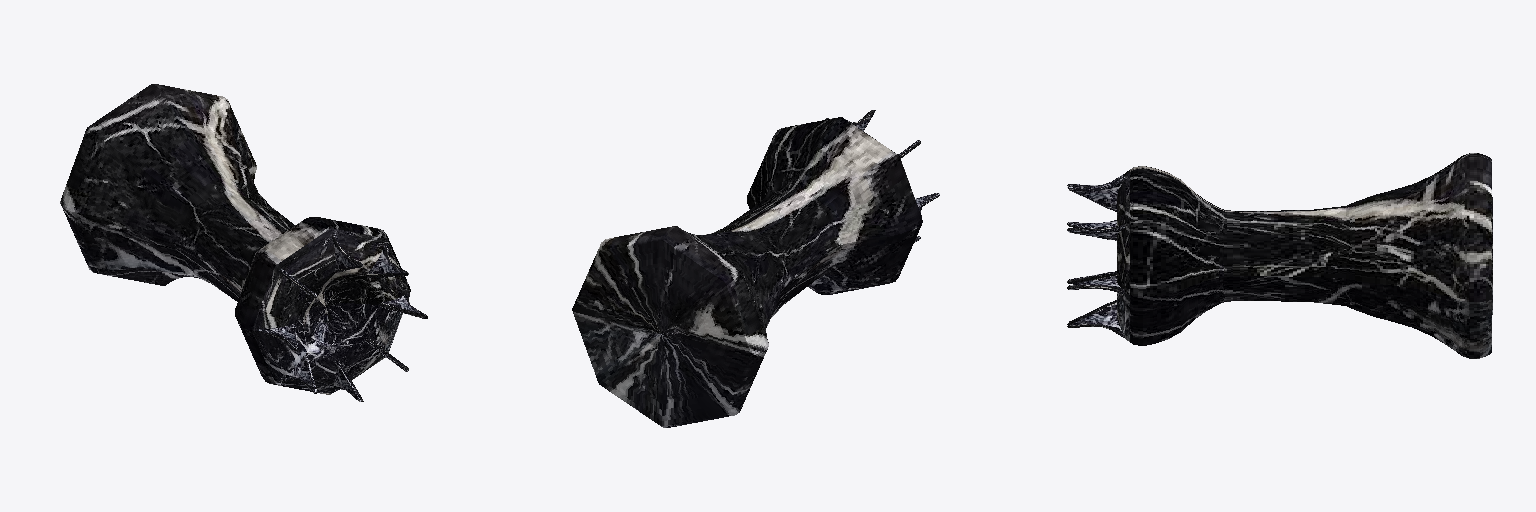
3 views of the same model, side by side, from view 1: azimuth 30°, elevation 25°; view 2: azimuth 150°, elevation 25°; view 3: azimuth 270°, elevation 25° (orthographic).
Parts seen in each view (by area): view 1: r.0036, r.0040, p.0043; view 2: r.0036, p.0043; view 3: r.0036, p.0043, r.0040.
Part boxes in pixels (x1,y1,x2,y2): r.0036: (60, 84, 410, 394); r.0040: (252, 228, 409, 393); p.0043: (257, 233, 427, 401); r.0036: (572, 117, 922, 427); p.0043: (825, 110, 939, 242); r.0036: (1130, 153, 1492, 358); p.0043: (1067, 174, 1124, 337); r.0040: (1117, 170, 1129, 341).
Bounding box in the file's own units: 0.5406 × 0.5406 × 1.05.
Materials: 1 (1 with a texture image).